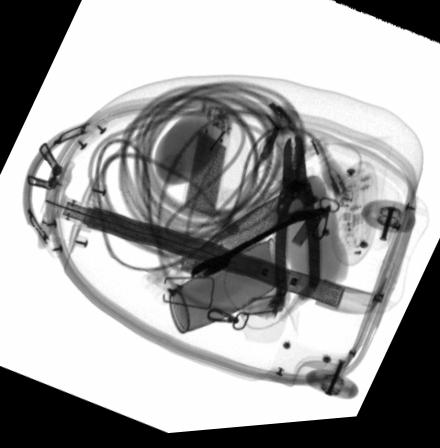Pliers: (274, 140, 319, 304)
Powerbank: (181, 109, 236, 221)
Wrench: (191, 212, 327, 283)
